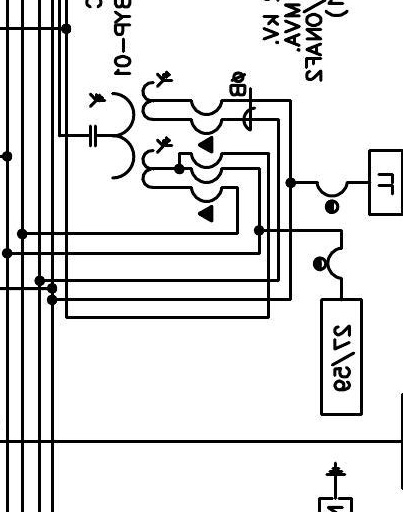115_cvt_3p: (89, 70, 174, 190)
